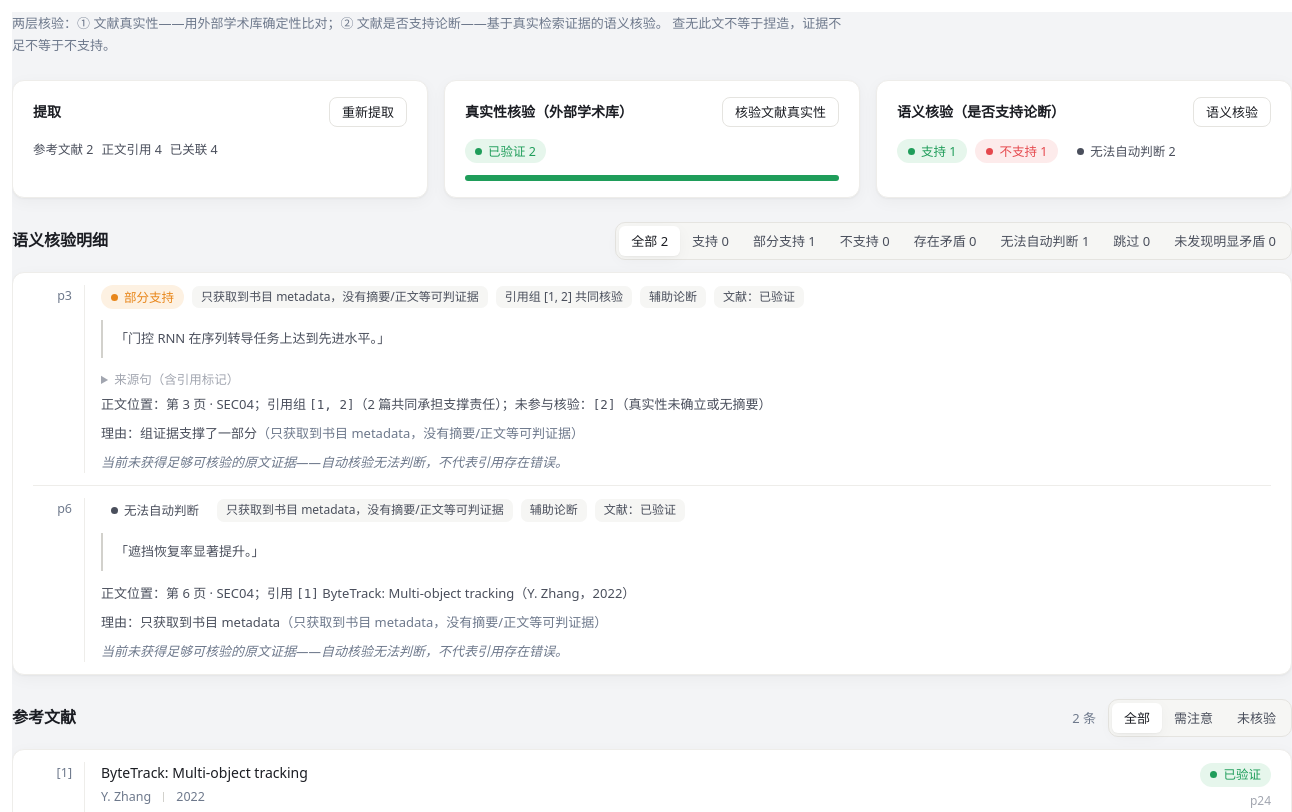
Scenario: 引用组与视觉分级（v4 记录形态 / v5 语义收口） › 引用组记录：组 chip（rawText 不丢失）+ 共同承担 + 排除成员 + 来源句折叠
Expected: the text with test id "citation-group-chip" shows "[1, 2]", [544,288,572,305]
Expected: the text with test id "citation-group-chip" shows "共同核验", [572,288,623,305]
来源句（含引用标记）折叠区
What coordinates should you click on to do the following:
click the heading "来源句（含引用标记）"
I would click on:
 (177, 379)
Its box is [114,371,239,388].
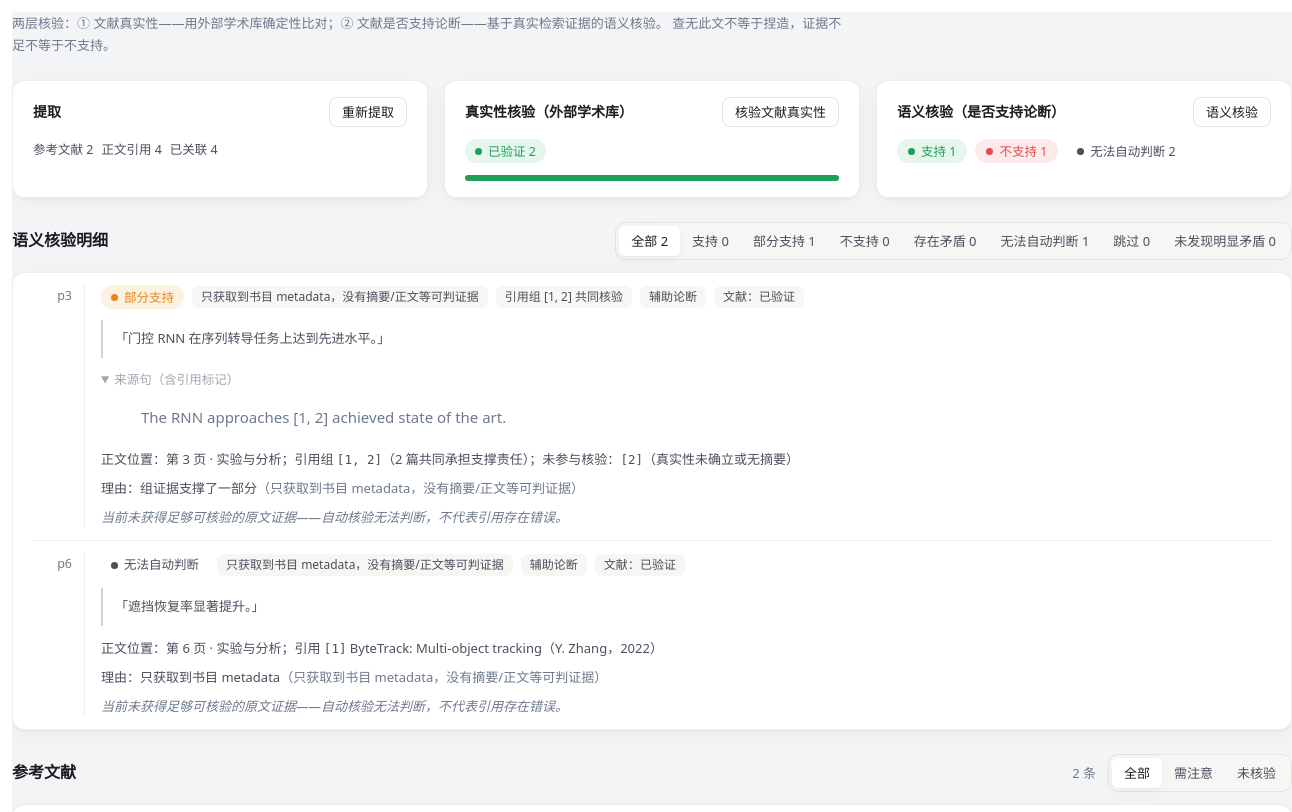
Expected: the text "The RNN approaches [1, 2] achieved state of the art." is shown, [141,407,506,427]
